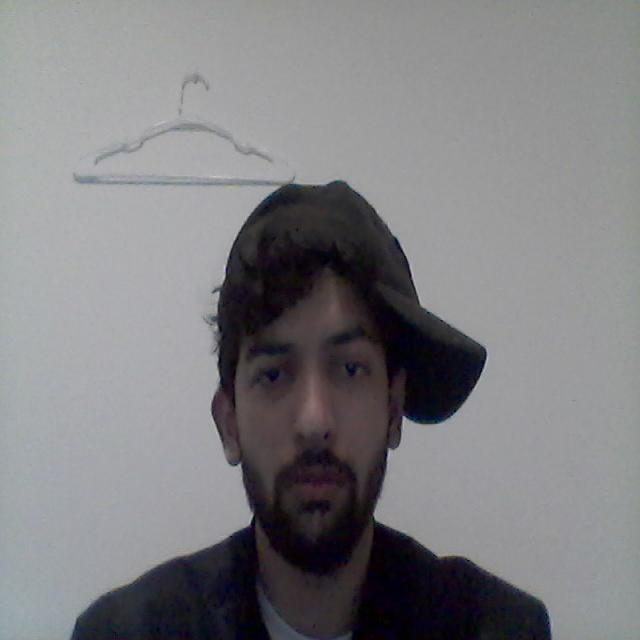cap: (161, 168, 520, 427)
